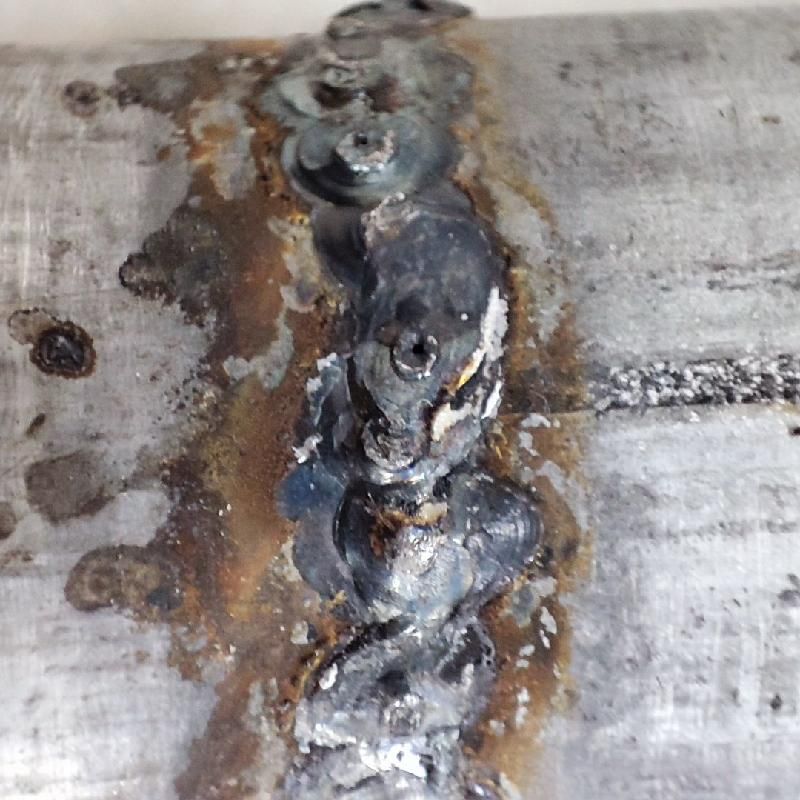Surface_pores: (337, 122, 411, 173), (390, 318, 443, 385)
wrong_size: (255, 2, 530, 626)
